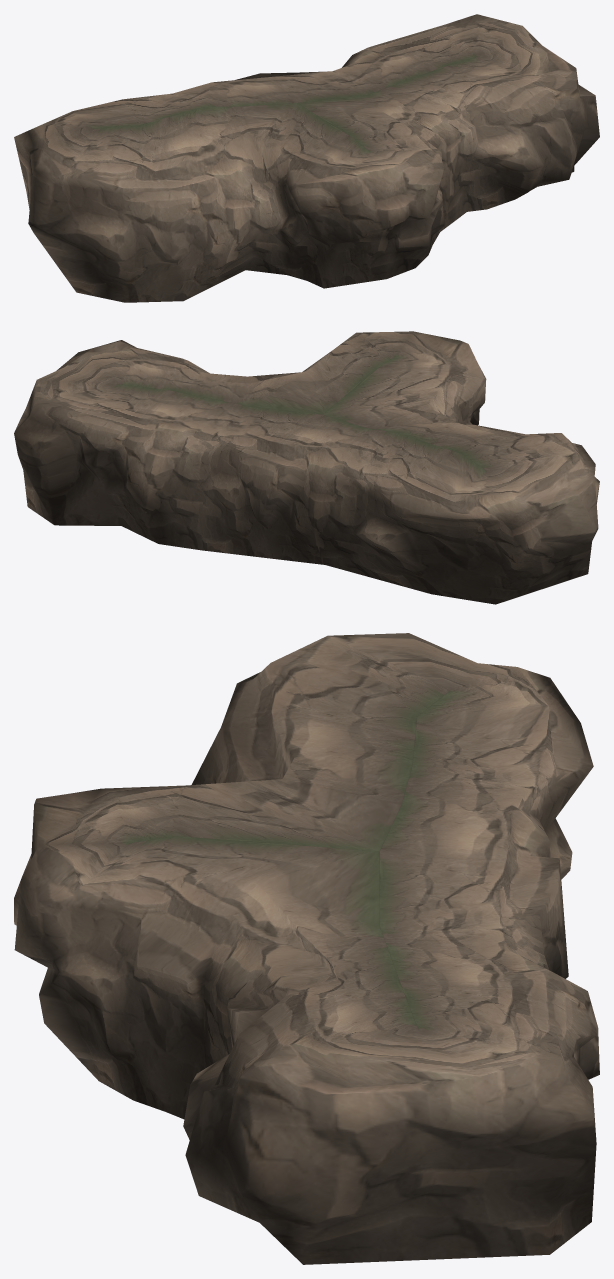
File: Terrain02_Build_LostTemple_002.FBX
The picture shows the model from 3 angles, top to bottom: view 1: azimuth 30°, elevation 25°; view 2: azimuth 150°, elevation 25°; view 3: azimuth 270°, elevation 25°; orthographic projection. The views are drawn at different scales.
Visible parts, largest first — view 1: Terrain02_Build_LostTemple_002; view 2: Terrain02_Build_LostTemple_002; view 3: Terrain02_Build_LostTemple_002.
Boxes of the visible parts, bbox=[...] form: Terrain02_Build_LostTemple_002: bbox=[14, 14, 599, 302]; Terrain02_Build_LostTemple_002: bbox=[14, 331, 599, 604]; Terrain02_Build_LostTemple_002: bbox=[14, 633, 599, 1264].
Bounding box in the file's own units: 16906 × 3787 × 9315.
1 material, 1 textured.
